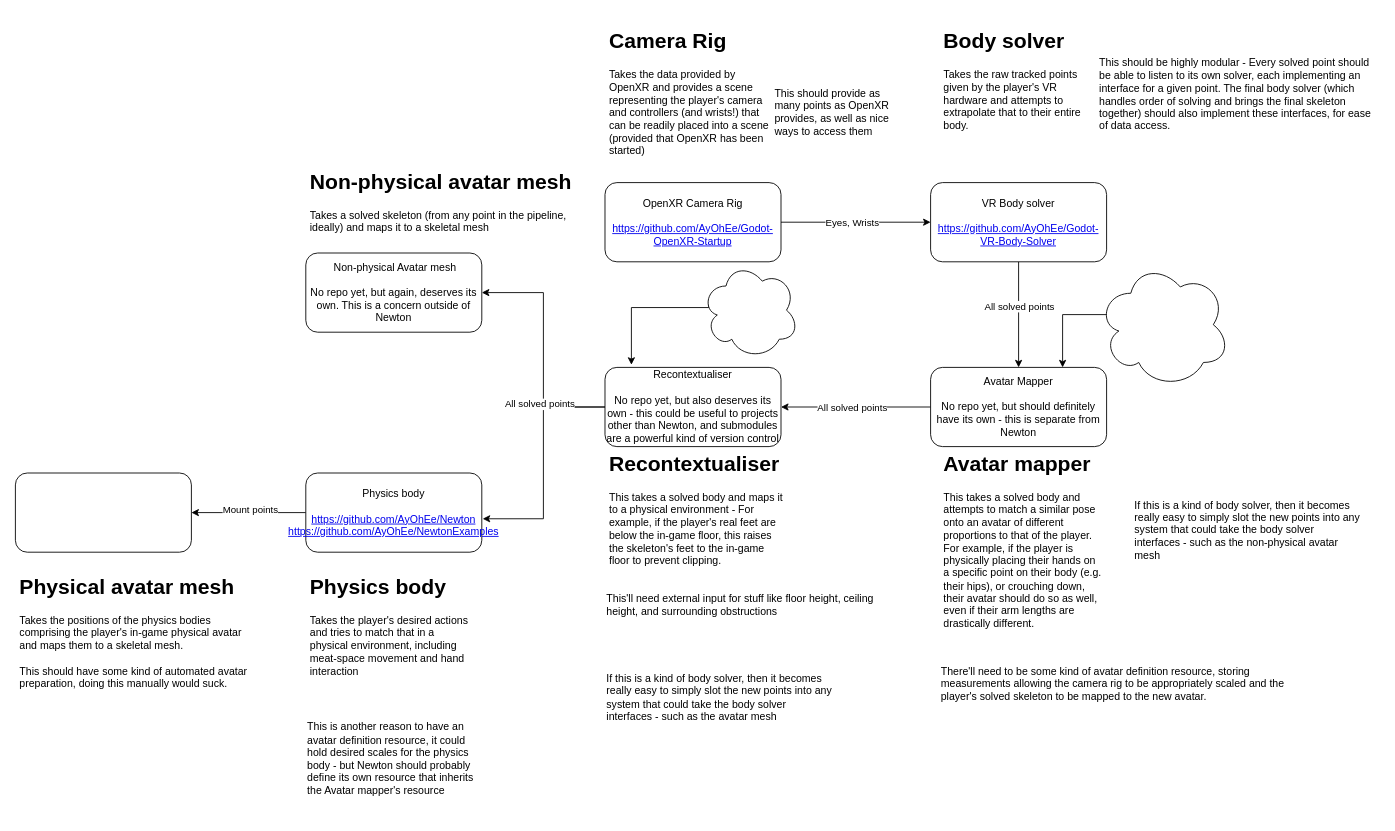
The diagram is 1395 pixels wide and 831 high, and some of its shapes have lost their labels. The box of each missing label's shape, as (x1, y1, x2, y2) in pixels:
Could also be a kind of avatar mapper?: (701, 261, 799, 359)
Could also be a kind of body solver? Could implement IBodySolver interface...: (1097, 261, 1230, 388)
Physical avatar mesh https://github.com/AyOhEe/Newton: (15, 472, 191, 552)
